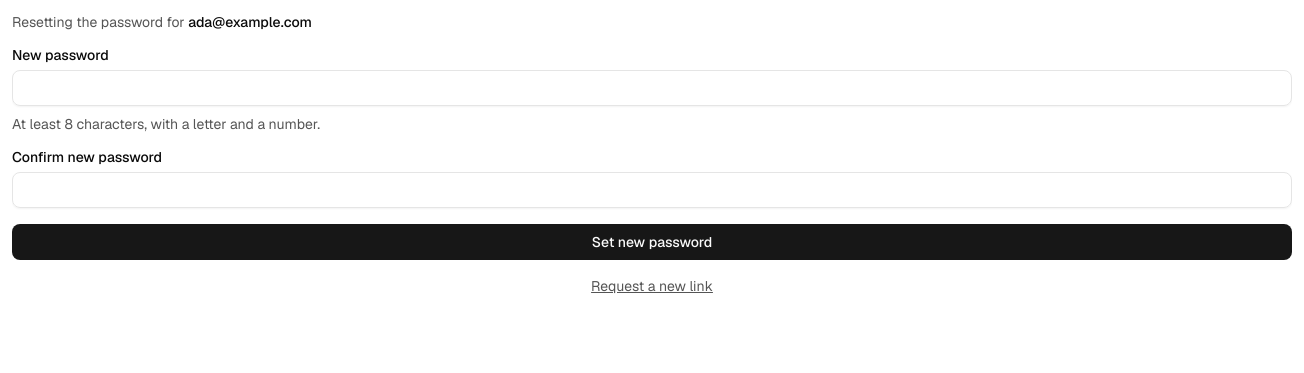
Test: ResetPasswordForm › F01_Reset_InvalidToken_ShowsFriendlyError
Type "Passw0rd!" into the password field labelled "New password" at (652, 88), box x1=12 y1=70 x2=1292 y2=106
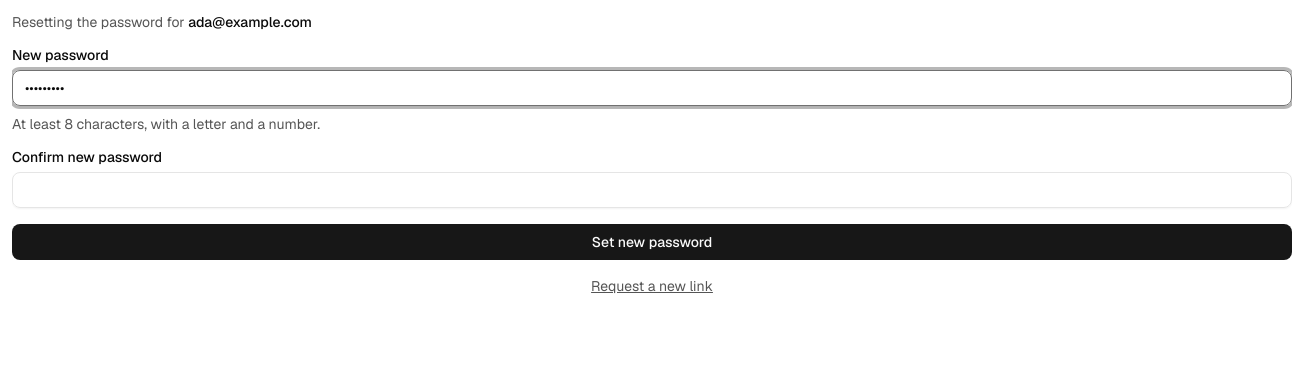
Type "Passw0rd!" into the password field labelled "Confirm new password" at (652, 190), box x1=12 y1=172 x2=1292 y2=208
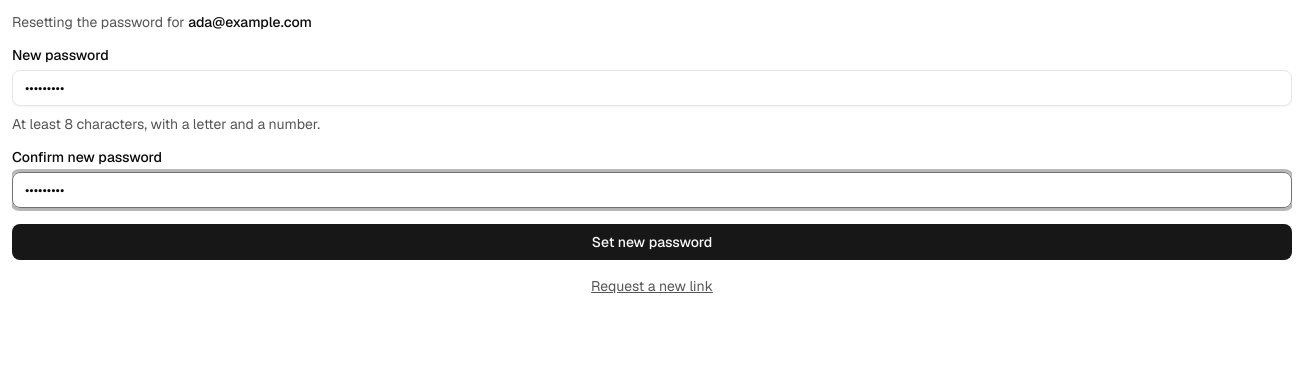
Click the button "Set new password" at (652, 242), box x1=12 y1=224 x2=1292 y2=260
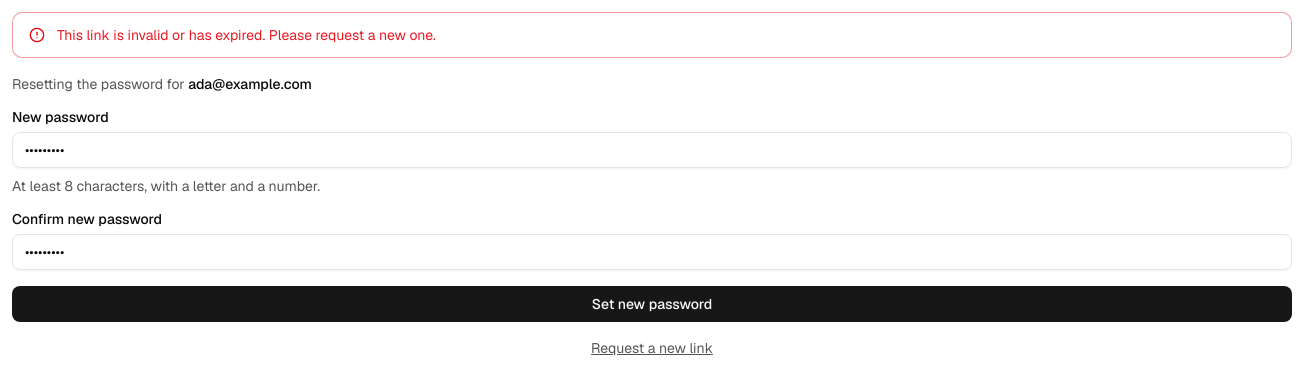
Expected: the message shows "invalid or has expired", x1=57 y1=26 x2=436 y2=44
